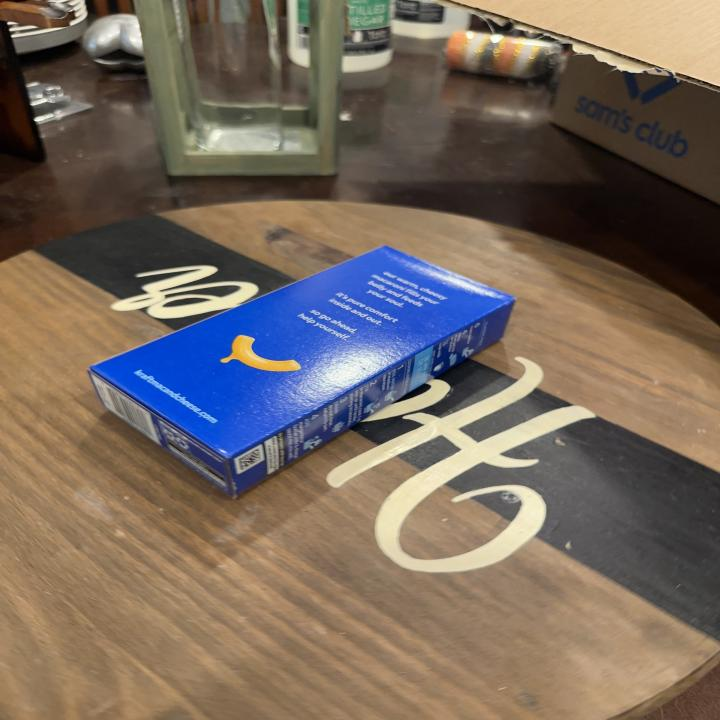Mac-And-Cheese: (86, 243, 516, 498)
